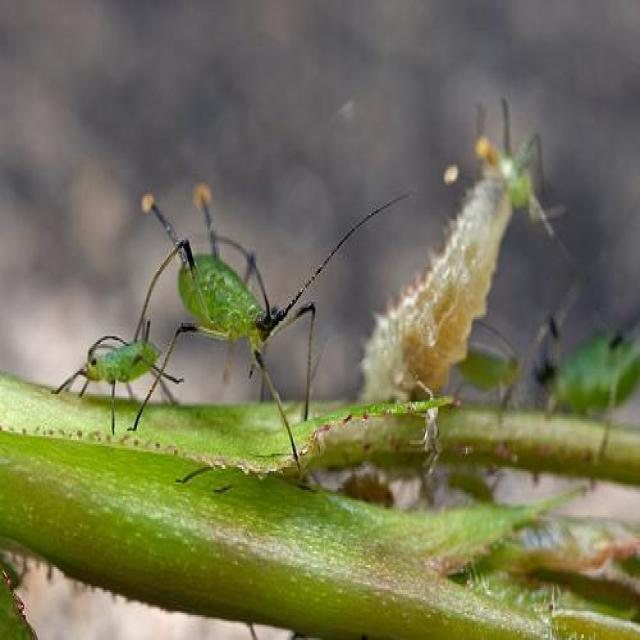aphid: (377, 110, 640, 461), (149, 183, 341, 420), (65, 324, 178, 419)
